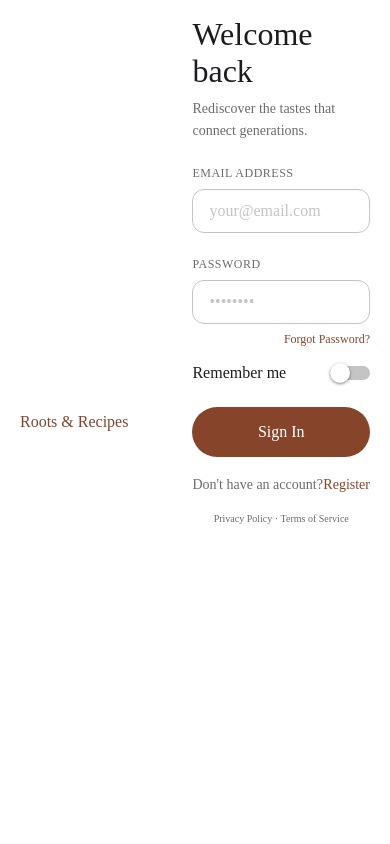
Test case: LoginScreen › forgot password › shows success message after Send Reset Link is pressed
Click the text "Forgot Password?".
click(327, 340)  # box [284, 332, 370, 347]
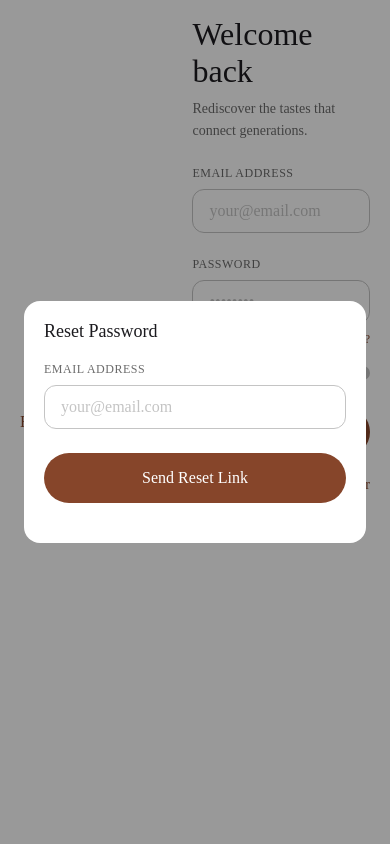
Check: the text "Send Reset Link" is shown
Click the text "Send Reset Link".
click(195, 478)  # box [142, 469, 248, 487]
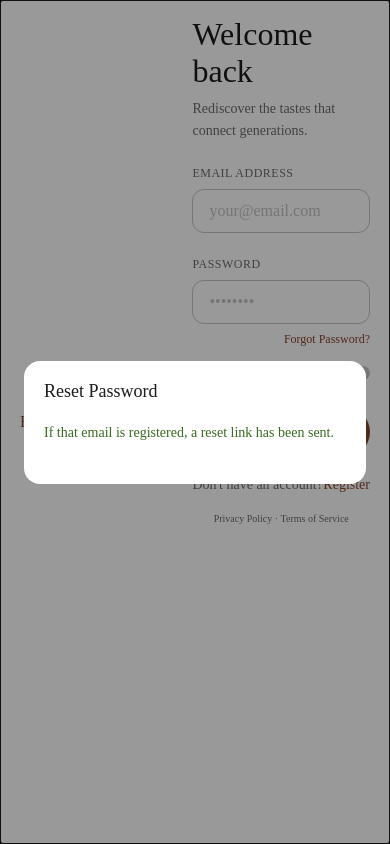
Check: the text "If that email is registered, a reset link has been sent." is shown, box [44, 422, 346, 444]
